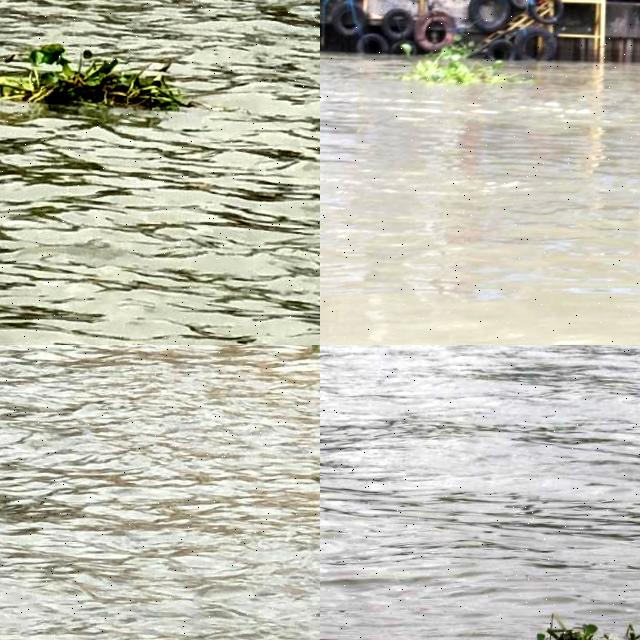water-hyacinth: (1, 41, 176, 121), (399, 44, 536, 92), (484, 610, 640, 640), (1, 346, 71, 378)
